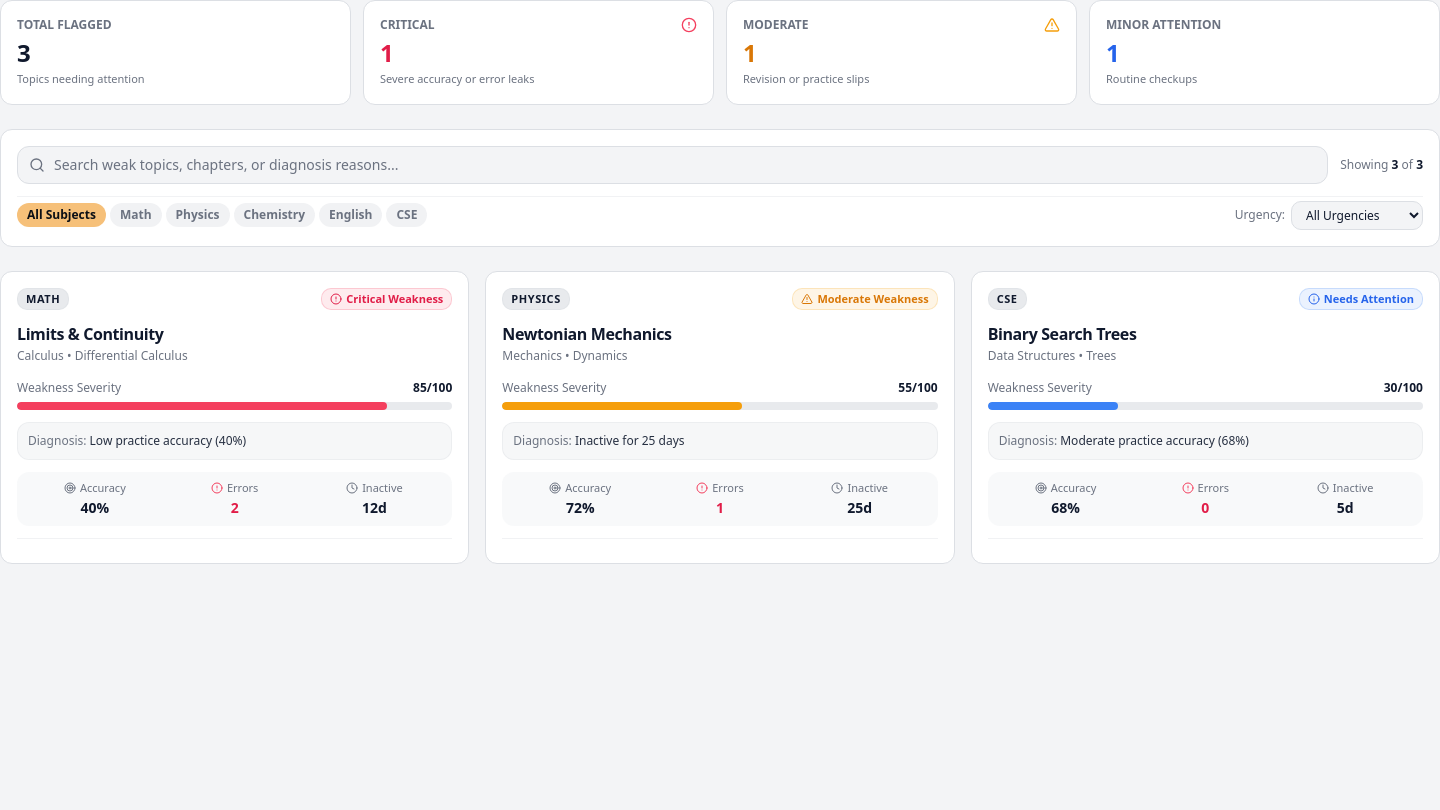
Test: WeakAreaRadar › resets filters when clicking Reset button
In the field with placeholder "Search weak topics, chapters, or diagnosis reasons...": (673, 164) x1=17 y1=146 x2=1328 y2=184, type "Newtonian"
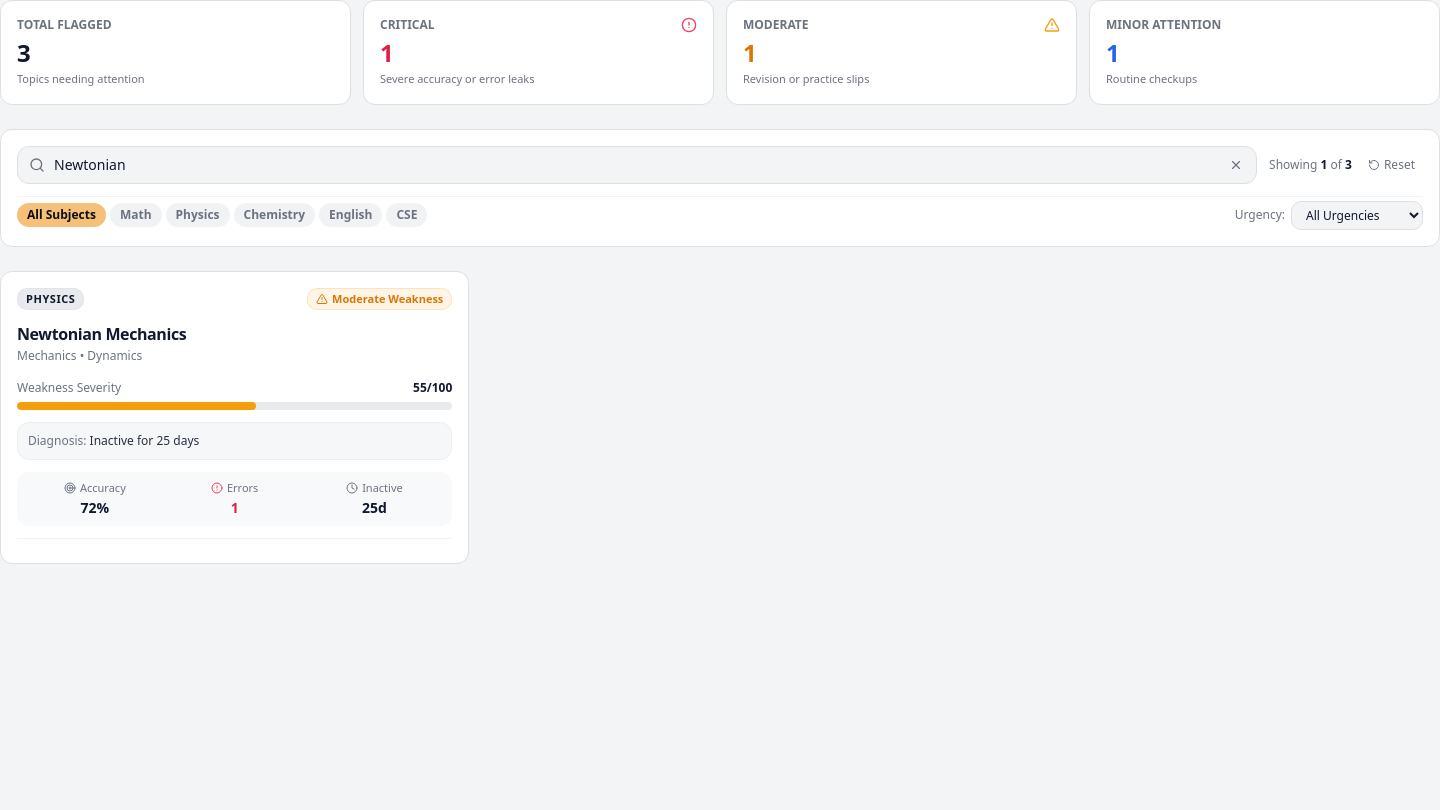
Result: the heading "Limits & Continuity" is gone
Click the button "Reset": (1391, 164) x1=1360 y1=148 x2=1423 y2=180
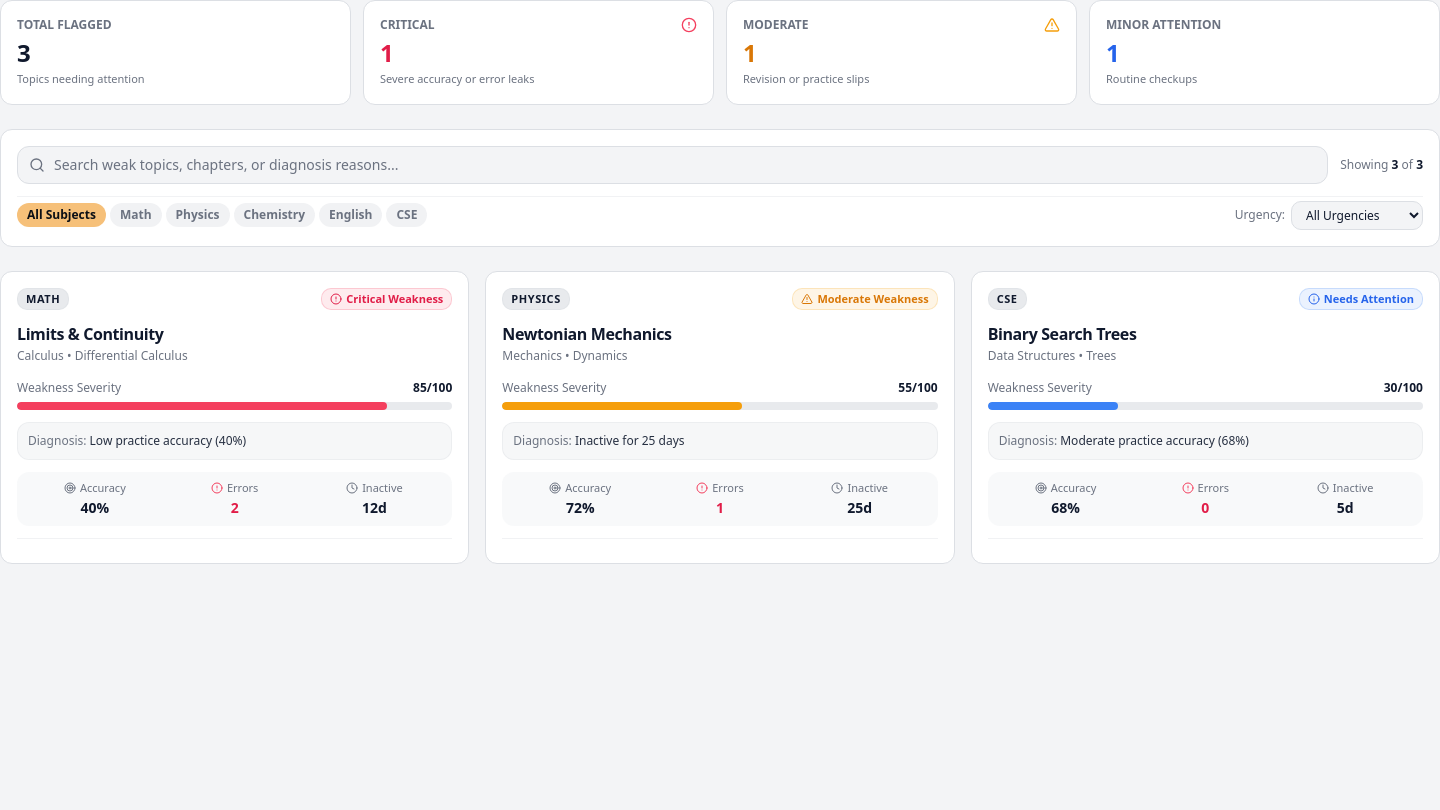
Expected: the heading "Newtonian Mechanics" is shown, x1=502 y1=323 x2=672 y2=345
Result: the heading "Limits & Continuity" is shown at x1=17 y1=323 x2=164 y2=345
